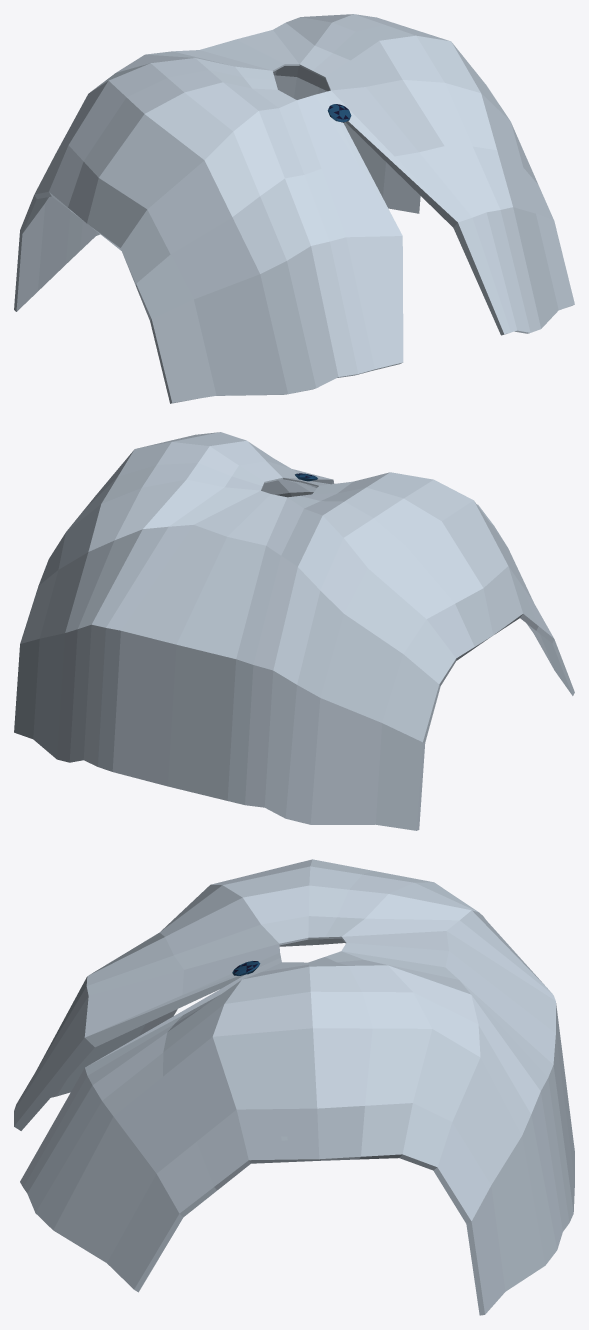
File: DanteCapa.fbx
The picture shows the model from 3 angles, top to bottom: view 1: azimuth 30°, elevation 25°; view 2: azimuth 150°, elevation 25°; view 3: azimuth 270°, elevation 25°; orthographic projection. The views are drawn at different scales.
Parts seen in each view (by area): view 1: Manto; view 2: Manto; view 3: Manto.
Boxes of the visible parts, x1,y1,x2,y2 form: Manto: (14, 14, 574, 403); Manto: (14, 432, 574, 830); Manto: (14, 859, 574, 1315).
Size of the model in its own units: 1.31 by 0.7934 by 1.41.
